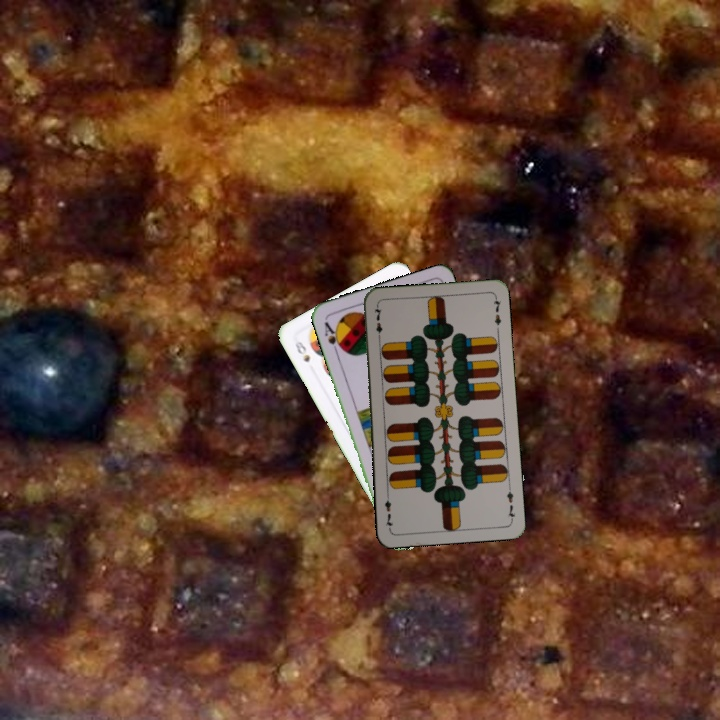E7: (503, 482, 518, 523), (370, 303, 385, 343)
S8: (291, 335, 313, 365)
SA: (320, 318, 346, 356)
